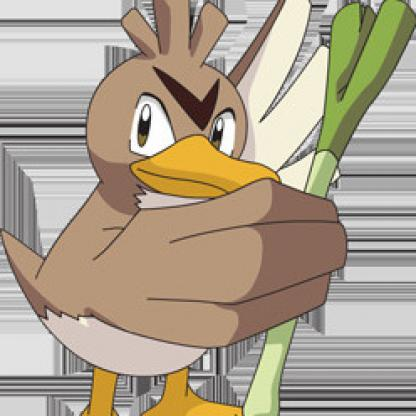Farfetchd: (1, 1, 416, 416)
